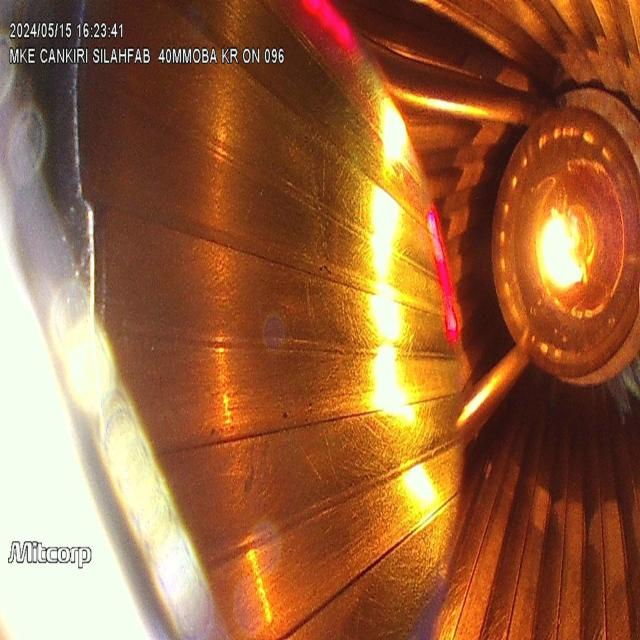hata_2.1: (310, 241, 342, 288), (206, 410, 226, 453), (274, 400, 295, 438), (306, 386, 322, 424)
